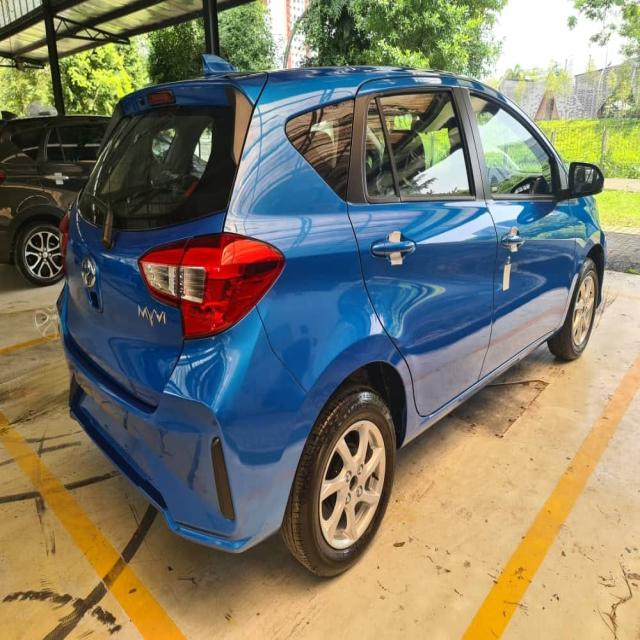PeroduaMyvi: (55, 53, 608, 579)
